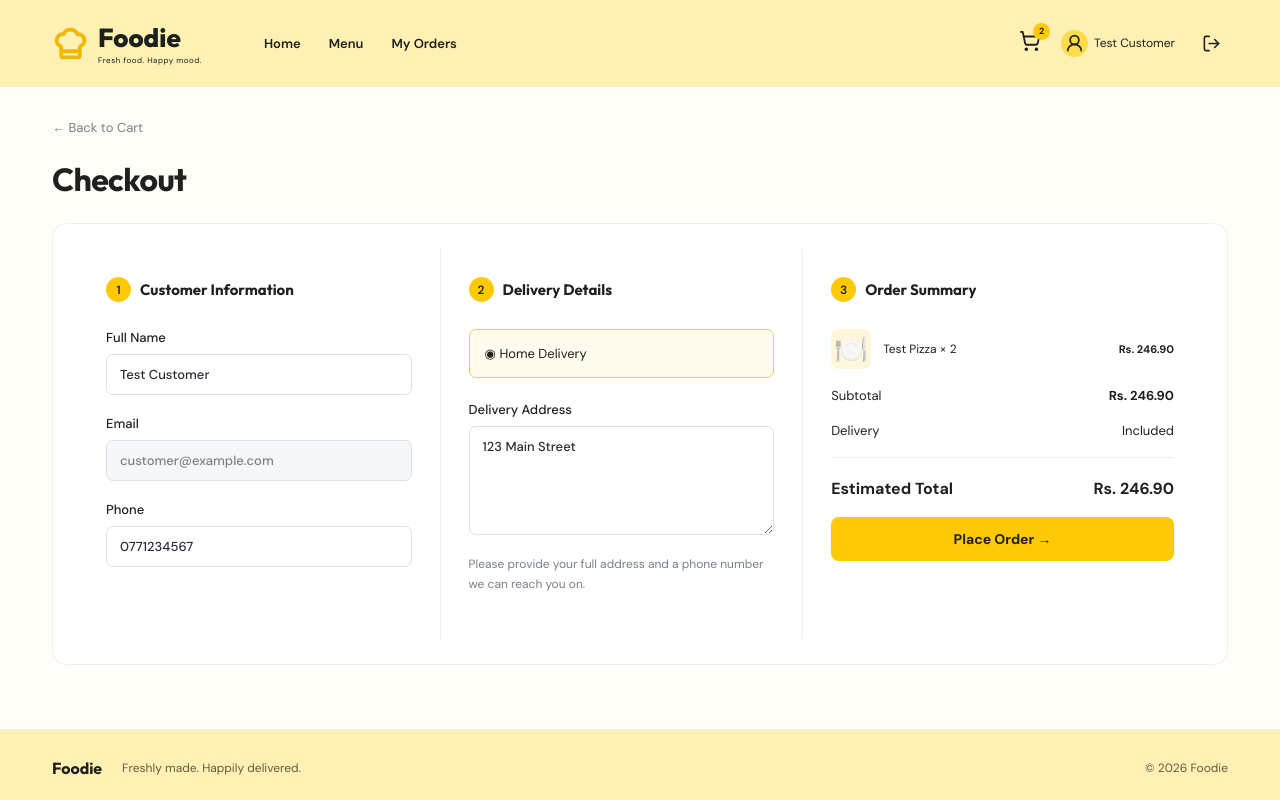
Test: customer and admin flows › keeps the cart when the backend rejects an unavailable food
This screenshot has width=1280, height=800.
Expected: the field labelled "Full Name" is shown, [106,354,412,395]
Step 1. Click the button "Place Order →" → {"x": 1003, "y": 539}, box [831,517,1174,561]
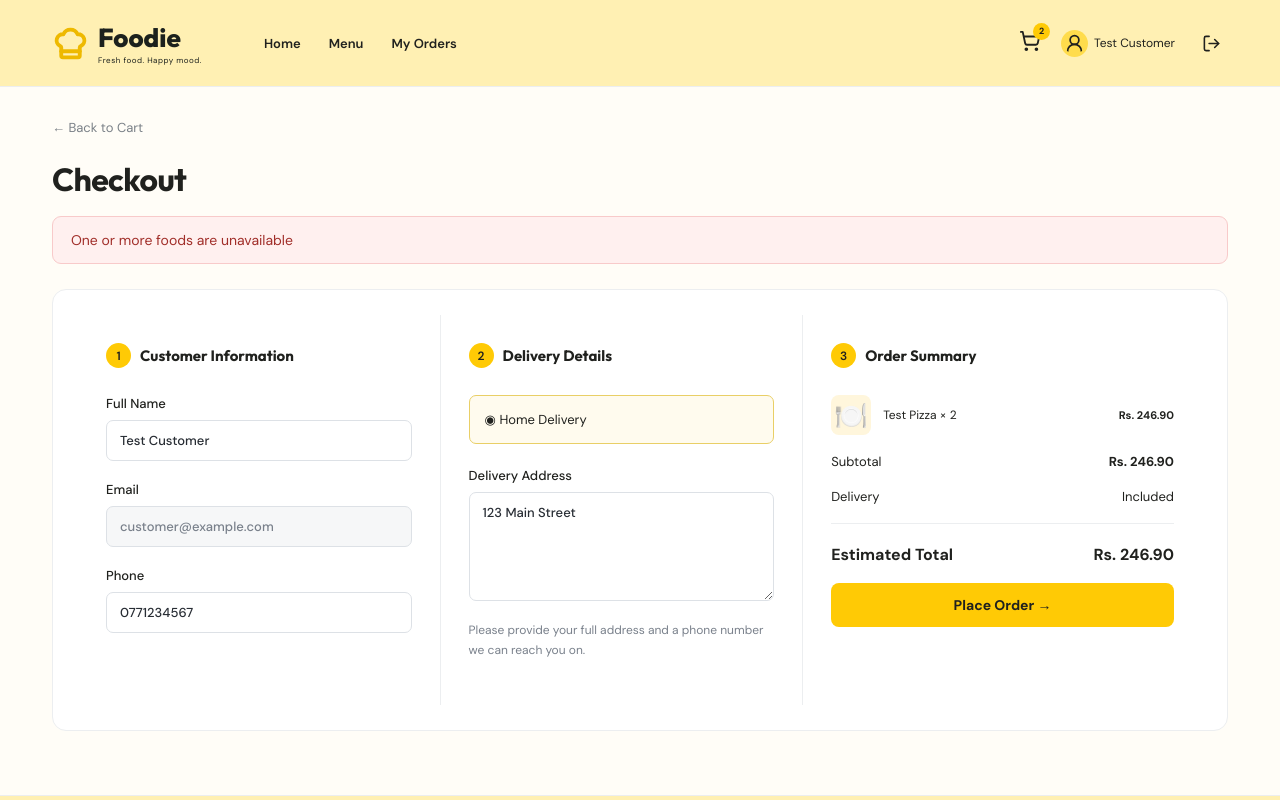
Now the message shows "unavailable", box [71,231,293,249]
